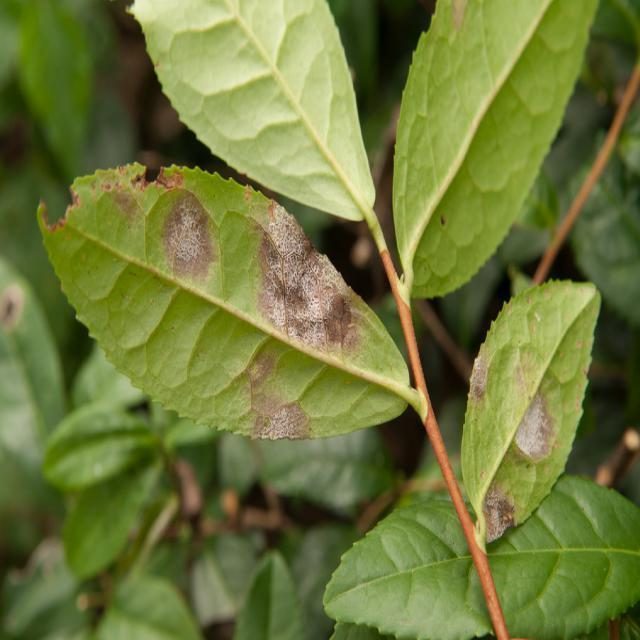Tea exobasidium blight: (242, 185, 367, 342), (235, 360, 332, 446), (153, 194, 223, 300), (510, 386, 571, 454), (479, 468, 526, 545), (454, 348, 495, 418)
